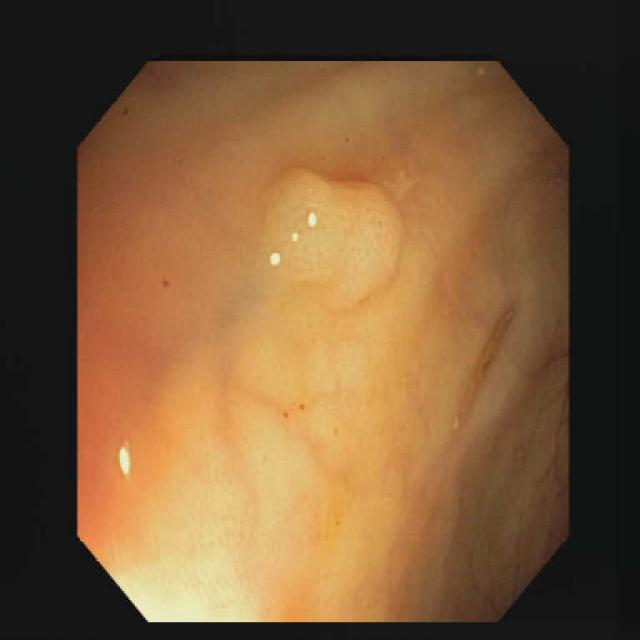tumor: (258, 169, 403, 311)
